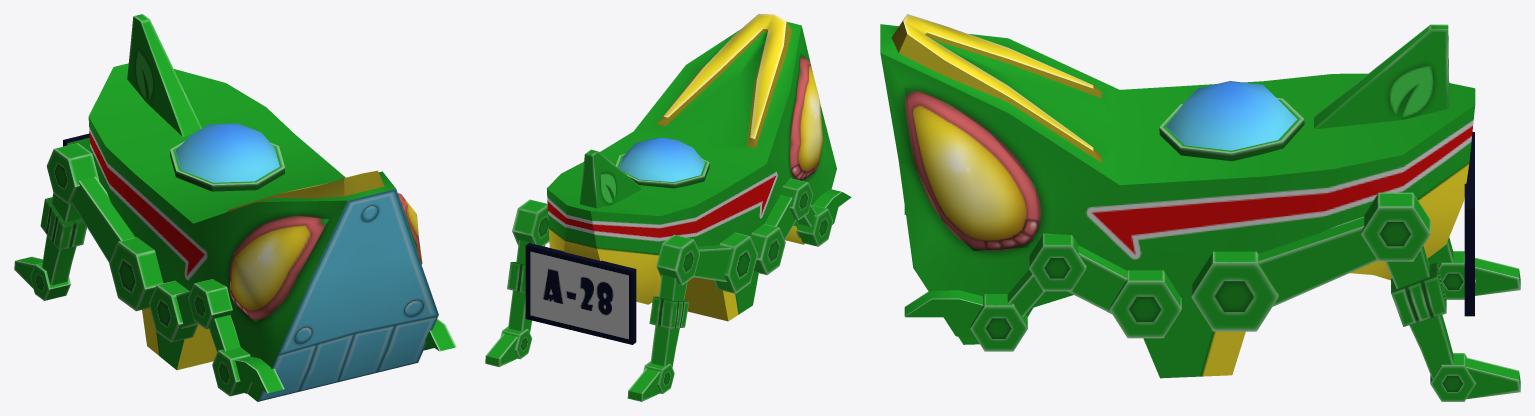
The model's file is Orthoptera.FBX.
3 renders of one model, left to right at view 1: azimuth 30°, elevation 25°; view 2: azimuth 150°, elevation 25°; view 3: azimuth 270°, elevation 25°, orthographic. The views are drawn at different scales.
Parts seen in each view (by area): view 1: Orthoptera; view 2: Orthoptera; view 3: Orthoptera.
Part boxes in pixels (x1,y1,x2,y2): Orthoptera: (14, 14, 456, 401); Orthoptera: (485, 14, 851, 401); Orthoptera: (880, 14, 1520, 401).
Size of the model in its own units: 0.2368 by 0.303 by 0.5437.
